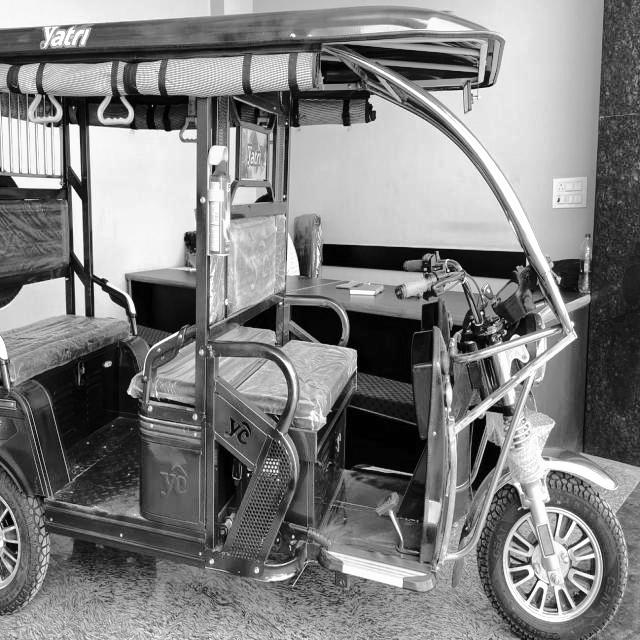Toto: (0, 14, 635, 640)
